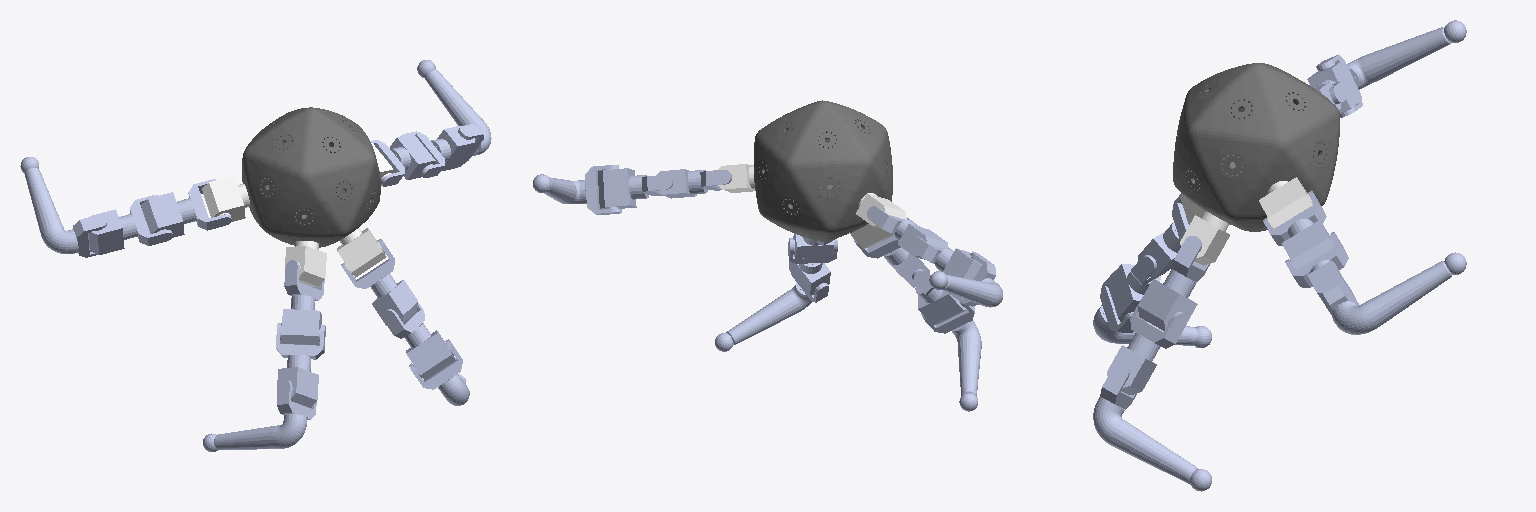
The robot description file, URDF, robot "mod_test":
<?xml version="1.0" encoding="utf-8"?>
<robot
  name="mod_test">
  <link
    name="base_link">
    <inertial>
      <origin
        xyz="-1.5226495220944E-06 1.5812928362389E-07 -5.05247252856584E-07"
        rpy="0 0 0" />
      <mass
        value="0.422806992949252" />
      <inertia
        ixx="0.00237499139253511"
        ixy="1.5717831530364E-08"
        ixz="1.49286265366169E-08"
        iyy="0.00237502154661776"
        iyz="-2.02154172619351E-08"
        izz="0.00237502595466009" />
    </inertial>
    <visual>
      <origin
        xyz="0 0 0"
        rpy="0 0 0" />
      <geometry>
        <mesh
          filename="package://meshes/base_link.STL" />
      </geometry>
      <material
        name="">
        <color
          rgba="0.498039215686275 0.498039215686275 0.498039215686275 1" />
      </material>
    </visual>
    <collision>
      <origin
        xyz="0 0 0"
        rpy="0 0 0" />
      <geometry>
        <mesh
          filename="package://meshes/base_link.STL" />
      </geometry>
    </collision>
  </link>
  <link
   name="150">
   <inertial>
      <origin
        xyz="0 0 0.028508"
        rpy="0 0 0" />
      <mass
        value="0.076173" />
      <inertia
        ixx="3.054E-05"
        ixy="0.000000"
        ixz="-0.000000"
        iyy="2.1077E-05"
        iyz="-0.000000"
        izz="2.1165E-05" />
    </inertial>
    <visual>
      <origin
        xyz="0 0 0"
        rpy="0 0 0" />
      <geometry>
        <mesh
          filename="package://meshes/1.STL" />
      </geometry>
      <material
        name="">
        <color
          rgba="1 1 1 1" />
      </material>
    </visual>
    <collision>
      <origin
        xyz="0 0 0"
        rpy="0 0 0" />
      <geometry>
        <mesh
          filename="package://meshes/1.STL" />
      </geometry>
    </collision>
  </link>
  <joint
    name="body_150"
    type="fixed">
    <origin
        xyz="0.031905 -0.043913 -0.071046"
        rpy="-2.557073 -0.308415 -2.083145" />
    <parent
      link="base_link" />
    <child
      link="150" />
    <axis
      xyz="0 0 0" />
  </joint>
  <link
    name="151">
    <inertial>
      <origin
        xyz="0.060018 -1.4108E-06 1.4108E-06"
        rpy="0 0 0" />
    <mass
        value="0.10689" />
      <inertia
        ixx="3.2684e-05"
        ixy="-2.5662e-09"
        ixz="2.5662e-09"
        iyy="8.6498e-05"
        iyz="-4.0975e-06"
        izz="8.2217e-05" />
    </inertial>
    <visual>
      <origin
        xyz="0 0 0"
        rpy="0 0 0" />
      <geometry>
        <mesh
          filename="package://meshes/module10.STL" />
      </geometry>
      <material
        name="">
        <color
          rgba="0.79216 0.81961 0.93333 1" />
      </material>
    </visual>
    <collision>
      <origin
        xyz="0 0 0"
        rpy="0 0 0" />
      <geometry>
        <mesh
          filename="package://meshes/module10.STL" />
      </geometry>
    </collision>
  </link>
  <joint
    name="150_151"
    type="revolute">
    <origin
      xyz="0 0 0.04"
      rpy="-1.558 -1.5708 -0.012835" />
    <parent
      link="150" />
    <child
      link="151" />
    <axis
      xyz="0 0 1" />
    <limit
      lower="-6.28"
      upper="6.28"
      effort="10"
      velocity="100" />
  </joint>
  <link
    name="152">
    <inertial>
      <origin
        xyz="0.060018 -1.4108E-06 1.4108E-06"
        rpy="0 0 0" />
    <mass
        value="0.10689" />
      <inertia
        ixx="3.2684e-05"
        ixy="-2.5662e-09"
        ixz="2.5662e-09"
        iyy="8.6498e-05"
        iyz="4.0975e-06"
        izz="8.2217e-05" />
    </inertial>
    <visual>
      <origin
        xyz="0 0 0"
        rpy="0 0 0" />
      <geometry>
        <mesh
          filename="package://meshes/module2.STL" />
      </geometry>
      <material
        name="">
        <color
          rgba="0.79216 0.81961 0.93333 1" />
      </material>
    </visual>
    <collision>
      <origin
        xyz="0 0 0"
        rpy="0 0 0" />
      <geometry>
        <mesh
          filename="package://meshes/module2.STL" />
      </geometry>
    </collision>
  </link>
  <joint
    name="151_152"
    type="revolute">
    <origin
      xyz="0.0816 0 0"
      rpy="5.235988 0 0" />
    <parent
      link="151" />
    <child
      link="152" />
    <axis
      xyz="0 0 1" />
    <limit
      lower="-6.28"
      upper="6.28"
      effort="10"
      velocity="100" />
  </joint>
  <link
    name="153">
    <inertial>
      <origin
        xyz="0.051733 -0.042281 -1.3878E-17"
        rpy="0 0 0" />
    <mass
        value="0.12059" />
      <inertia
        ixx="0.00025425"
        ixy="4.8319E-05"
        ixz="0"
        iyy="5.0194E-05"
        iyz="-3.3141E-21"
        izz="0.00027482" />
    </inertial>
    <visual>
      <origin
        xyz="0 0 0"
        rpy="0 0 0" />
      <geometry>
        <mesh
          filename="package://meshes/leg.STL" />
      </geometry>
      <material
        name="">
        <color
          rgba="0.79216 0.81961 0.93333 1" />
      </material>
    </visual>
    <collision>
      <origin
        xyz="0 0 0"
        rpy="0 0 0" />
      <geometry>
        <mesh
          filename="package://meshes/leg.STL" />
      </geometry>
    </collision>
  </link>
  <joint
    name="152_153"
    type="revolute">
    <origin
      xyz="0.0816 0 0"
      rpy="1.047198 0 0" />
    <parent
      link="152" />
    <child
      link="153" />
    <axis
      xyz="0 0 1" />
    <limit
      lower="-6.28"
      upper="6.28"
      effort="10"
      velocity="100" />
  </joint>
  <link
   name="110">
   <inertial>
      <origin
        xyz="0 0 0.028508"
        rpy="0 0 0" />
      <mass
        value="0.076173" />
      <inertia
        ixx="3.054E-05"
        ixy="0.000000"
        ixz="0.000000"
        iyy="2.1077E-05"
        iyz="0.000021"
        izz="2.1165E-05" />
    </inertial>
    <visual>
      <origin
        xyz="0 0 0"
        rpy="0 0 0" />
      <geometry>
        <mesh
          filename="package://meshes/1.STL" />
      </geometry>
      <material
        name="">
        <color
          rgba="1 1 1 1" />
      </material>
    </visual>
    <collision>
      <origin
        xyz="0 0 0"
        rpy="0 0 0" />
      <geometry>
        <mesh
          filename="package://meshes/1.STL" />
      </geometry>
    </collision>
  </link>
  <joint
    name="body_110"
    type="fixed">
    <origin
        xyz="0.083523 0.027138 -0.016769"
        rpy="-1.935587 -1.017234 -0.942540" />
    <parent
      link="base_link" />
    <child
      link="110" />
    <axis
      xyz="0 0 0" />
  </joint>
  <link
    name="111">
    <inertial>
      <origin
        xyz="0.060018 -1.4108E-06 1.4108E-06"
        rpy="0 0 0" />
    <mass
        value="0.10689" />
      <inertia
        ixx="3.2684e-05"
        ixy="-2.5662e-09"
        ixz="2.5662e-09"
        iyy="9.3595e-05"
        iyz="-2.1275e-13"
        izz="7.512e-05" />
    </inertial>
    <visual>
      <origin
        xyz="0 0 0"
        rpy="0 0 0" />
      <geometry>
        <mesh
          filename="package://meshes/module0.STL" />
      </geometry>
      <material
        name="">
        <color
          rgba="0.79216 0.81961 0.93333 1" />
      </material>
    </visual>
    <collision>
      <origin
        xyz="0 0 0"
        rpy="0 0 0" />
      <geometry>
        <mesh
          filename="package://meshes/module0.STL" />
      </geometry>
    </collision>
  </link>
  <joint
    name="110_111"
    type="revolute">
    <origin
      xyz="0 0 0.04"
      rpy="-1.558 -1.5708 -0.012835" />
    <parent
      link="110" />
    <child
      link="111" />
    <axis
      xyz="0 0 1" />
    <limit
      lower="-6.28"
      upper="6.28"
      effort="10"
      velocity="100" />
  </joint>
  <link
    name="112">
    <inertial>
      <origin
        xyz="0.060018 -1.4108E-06 1.4108E-06"
        rpy="0 0 0" />
    <mass
        value="0.10689" />
      <inertia
        ixx="3.2684e-05"
        ixy="-2.5662e-09"
        ixz="2.5662e-09"
        iyy="8.4132e-05"
        iyz="-2.1275e-13"
        izz="8.4583e-05" />
    </inertial>
    <visual>
      <origin
        xyz="0 0 0"
        rpy="0 0 0" />
      <geometry>
        <mesh
          filename="package://meshes/module3.STL" />
      </geometry>
      <material
        name="">
        <color
          rgba="0.79216 0.81961 0.93333 1" />
      </material>
    </visual>
    <collision>
      <origin
        xyz="0 0 0"
        rpy="0 0 0" />
      <geometry>
        <mesh
          filename="package://meshes/module3.STL" />
      </geometry>
    </collision>
  </link>
  <joint
    name="111_112"
    type="revolute">
    <origin
      xyz="0.0816 0 0"
      rpy="0.000000 0 0" />
    <parent
      link="111" />
    <child
      link="112" />
    <axis
      xyz="0 0 1" />
    <limit
      lower="-6.28"
      upper="6.28"
      effort="10"
      velocity="100" />
  </joint>
  <link
    name="113">
    <inertial>
      <origin
        xyz="0.051733 -0.042281 -1.3878E-17"
        rpy="0 0 0" />
    <mass
        value="0.12059" />
      <inertia
        ixx="0.00025425"
        ixy="4.8319E-05"
        ixz="0"
        iyy="5.0194E-05"
        iyz="-3.3141E-21"
        izz="0.00027482" />
    </inertial>
    <visual>
      <origin
        xyz="0 0 0"
        rpy="0 0 0" />
      <geometry>
        <mesh
          filename="package://meshes/leg.STL" />
      </geometry>
      <material
        name="">
        <color
          rgba="0.79216 0.81961 0.93333 1" />
      </material>
    </visual>
    <collision>
      <origin
        xyz="0 0 0"
        rpy="0 0 0" />
      <geometry>
        <mesh
          filename="package://meshes/leg.STL" />
      </geometry>
    </collision>
  </link>
  <joint
    name="112_113"
    type="revolute">
    <origin
      xyz="0.0816 0 0"
      rpy="1.570796 0 0" />
    <parent
      link="112" />
    <child
      link="113" />
    <axis
      xyz="0 0 1" />
    <limit
      lower="-6.28"
      upper="6.28"
      effort="10"
      velocity="100" />
  </joint>
  <link
   name="130">
   <inertial>
      <origin
        xyz="0 0 0.028508"
        rpy="0 0 0" />
      <mass
        value="0.076173" />
      <inertia
        ixx="3.054E-05"
        ixy="0.000000"
        ixz="-0.000000"
        iyy="2.1077E-05"
        iyz="-0.000000"
        izz="2.1165E-05" />
    </inertial>
    <visual>
      <origin
        xyz="0 0 0"
        rpy="0 0 0" />
      <geometry>
        <mesh
          filename="package://meshes/1.STL" />
      </geometry>
      <material
        name="">
        <color
          rgba="1 1 1 1" />
      </material>
    </visual>
    <collision>
      <origin
        xyz="0 0 0"
        rpy="0 0 0" />
      <geometry>
        <mesh
          filename="package://meshes/1.STL" />
      </geometry>
    </collision>
  </link>
  <joint
    name="body_130"
    type="fixed">
    <origin
        xyz="-0.083523 0.027138 -0.016769"
        rpy="1.935587 -1.017234 -2.199053" />
    <parent
      link="base_link" />
    <child
      link="130" />
    <axis
      xyz="0 0 0" />
  </joint>
  <link
    name="131">
    <inertial>
      <origin
        xyz="0.060018 -1.4108E-06 1.4108E-06"
        rpy="0 0 0" />
    <mass
        value="0.10689" />
      <inertia
        ixx="3.2684e-05"
        ixy="-2.5662e-09"
        ixz="2.5662e-09"
        iyy="9.3595e-05"
        iyz="-2.1275e-13"
        izz="7.512e-05" />
    </inertial>
    <visual>
      <origin
        xyz="0 0 0"
        rpy="0 0 0" />
      <geometry>
        <mesh
          filename="package://meshes/module0.STL" />
      </geometry>
      <material
        name="">
        <color
          rgba="0.79216 0.81961 0.93333 1" />
      </material>
    </visual>
    <collision>
      <origin
        xyz="0 0 0"
        rpy="0 0 0" />
      <geometry>
        <mesh
          filename="package://meshes/module0.STL" />
      </geometry>
    </collision>
  </link>
  <joint
    name="130_131"
    type="revolute">
    <origin
      xyz="0 0 0.04"
      rpy="-1.558 -1.5708 -0.012835" />
    <parent
      link="130" />
    <child
      link="131" />
    <axis
      xyz="0 0 1" />
    <limit
      lower="-6.28"
      upper="6.28"
      effort="10"
      velocity="100" />
  </joint>
  <link
    name="132">
    <inertial>
      <origin
        xyz="0.060018 -1.4108E-06 1.4108E-06"
        rpy="0 0 0" />
    <mass
        value="0.10689" />
      <inertia
        ixx="3.2684e-05"
        ixy="-2.5662e-09"
        ixz="2.5662e-09"
        iyy="8.4132e-05"
        iyz="-2.1275e-13"
        izz="8.4583e-05" />
    </inertial>
    <visual>
      <origin
        xyz="0 0 0"
        rpy="0 0 0" />
      <geometry>
        <mesh
          filename="package://meshes/module9.STL" />
      </geometry>
      <material
        name="">
        <color
          rgba="0.79216 0.81961 0.93333 1" />
      </material>
    </visual>
    <collision>
      <origin
        xyz="0 0 0"
        rpy="0 0 0" />
      <geometry>
        <mesh
          filename="package://meshes/module9.STL" />
      </geometry>
    </collision>
  </link>
  <joint
    name="131_132"
    type="revolute">
    <origin
      xyz="0.0816 0 0"
      rpy="0.000000 0 0" />
    <parent
      link="131" />
    <child
      link="132" />
    <axis
      xyz="0 0 1" />
    <limit
      lower="-6.28"
      upper="6.28"
      effort="10"
      velocity="100" />
  </joint>
  <link
    name="133">
    <inertial>
      <origin
        xyz="0.051733 -0.042281 -1.3878E-17"
        rpy="0 0 0" />
    <mass
        value="0.12059" />
      <inertia
        ixx="0.00025425"
        ixy="4.8319E-05"
        ixz="0"
        iyy="5.0194E-05"
        iyz="-3.3141E-21"
        izz="0.00027482" />
    </inertial>
    <visual>
      <origin
        xyz="0 0 0"
        rpy="0 0 0" />
      <geometry>
        <mesh
          filename="package://meshes/leg.STL" />
      </geometry>
      <material
        name="">
        <color
          rgba="0.79216 0.81961 0.93333 1" />
      </material>
    </visual>
    <collision>
      <origin
        xyz="0 0 0"
        rpy="0 0 0" />
      <geometry>
        <mesh
          filename="package://meshes/leg.STL" />
      </geometry>
    </collision>
  </link>
  <joint
    name="132_133"
    type="revolute">
    <origin
      xyz="0.0816 0 0"
      rpy="4.712389 0 0" />
    <parent
      link="132" />
    <child
      link="133" />
    <axis
      xyz="0 0 1" />
    <limit
      lower="-6.28"
      upper="6.28"
      effort="10"
      velocity="100" />
  </joint>
  <link
   name="190">
   <inertial>
      <origin
        xyz="0 0 0.028508"
        rpy="0 0 0" />
      <mass
        value="0.076173" />
      <inertia
        ixx="3.054E-05"
        ixy="0.000000"
        ixz="-0.000000"
        iyy="2.1077E-05"
        iyz="0.000021"
        izz="2.1165E-05" />
    </inertial>
    <visual>
      <origin
        xyz="0 0 0"
        rpy="0 0 0" />
      <geometry>
        <mesh
          filename="package://meshes/1.STL" />
      </geometry>
      <material
        name="">
        <color
          rgba="1 1 1 1" />
      </material>
    </visual>
    <collision>
      <origin
        xyz="0 0 0"
        rpy="0 0 0" />
      <geometry>
        <mesh
          filename="package://meshes/1.STL" />
      </geometry>
    </collision>
  </link>
  <joint
    name="body_190"
    type="fixed">
    <origin
        xyz="-0.031905 -0.043913 -0.071046"
        rpy="2.557073 -0.308415 -1.058448" />
    <parent
      link="base_link" />
    <child
      link="190" />
    <axis
      xyz="0 0 0" />
  </joint>
  <link
    name="191">
    <inertial>
      <origin
        xyz="0.060018 -1.4108E-06 1.4108E-06"
        rpy="0 0 0" />
    <mass
        value="0.10689" />
      <inertia
        ixx="3.2684e-05"
        ixy="-2.5662e-09"
        ixz="2.5662e-09"
        iyy="8.6498e-05"
        iyz="4.0975e-06"
        izz="8.2217e-05" />
    </inertial>
    <visual>
      <origin
        xyz="0 0 0"
        rpy="0 0 0" />
      <geometry>
        <mesh
          filename="package://meshes/module2.STL" />
      </geometry>
      <material
        name="">
        <color
          rgba="0.79216 0.81961 0.93333 1" />
      </material>
    </visual>
    <collision>
      <origin
        xyz="0 0 0"
        rpy="0 0 0" />
      <geometry>
        <mesh
          filename="package://meshes/module2.STL" />
      </geometry>
    </collision>
  </link>
  <joint
    name="190_191"
    type="revolute">
    <origin
      xyz="0 0 0.04"
      rpy="-1.558 -1.5708 -0.012835" />
    <parent
      link="190" />
    <child
      link="191" />
    <axis
      xyz="0 0 1" />
    <limit
      lower="-6.28"
      upper="6.28"
      effort="10"
      velocity="100" />
  </joint>
  <link
    name="192">
    <inertial>
      <origin
        xyz="0.060018 -1.4108E-06 1.4108E-06"
        rpy="0 0 0" />
    <mass
        value="0.10689" />
      <inertia
        ixx="3.2684e-05"
        ixy="-2.5662e-09"
        ixz="2.5662e-09"
        iyy="8.6498e-05"
        iyz="-4.0975e-06"
        izz="8.2217e-05" />
    </inertial>
    <visual>
      <origin
        xyz="0 0 0"
        rpy="0 0 0" />
      <geometry>
        <mesh
          filename="package://meshes/module10.STL" />
      </geometry>
      <material
        name="">
        <color
          rgba="0.79216 0.81961 0.93333 1" />
      </material>
    </visual>
    <collision>
      <origin
        xyz="0 0 0"
        rpy="0 0 0" />
      <geometry>
        <mesh
          filename="package://meshes/module10.STL" />
      </geometry>
    </collision>
  </link>
  <joint
    name="191_192"
    type="revolute">
    <origin
      xyz="0.0816 0 0"
      rpy="1.047198 0 0" />
    <parent
      link="191" />
    <child
      link="192" />
    <axis
      xyz="0 0 1" />
    <limit
      lower="-6.28"
      upper="6.28"
      effort="10"
      velocity="100" />
  </joint>
  <link
    name="193">
    <inertial>
      <origin
        xyz="0.051733 -0.042281 -1.3878E-17"
        rpy="0 0 0" />
    <mass
        value="0.12059" />
      <inertia
        ixx="0.00025425"
        ixy="4.8319E-05"
        ixz="0"
        iyy="5.0194E-05"
        iyz="-3.3141E-21"
        izz="0.00027482" />
    </inertial>
    <visual>
      <origin
        xyz="0 0 0"
        rpy="0 0 0" />
      <geometry>
        <mesh
          filename="package://meshes/leg.STL" />
      </geometry>
      <material
        name="">
        <color
          rgba="0.79216 0.81961 0.93333 1" />
      </material>
    </visual>
    <collision>
      <origin
        xyz="0 0 0"
        rpy="0 0 0" />
      <geometry>
        <mesh
          filename="package://meshes/leg.STL" />
      </geometry>
    </collision>
  </link>
  <joint
    name="192_193"
    type="revolute">
    <origin
      xyz="0.0816 0 0"
      rpy="5.235988 0 0" />
    <parent
      link="192" />
    <child
      link="193" />
    <axis
      xyz="0 0 1" />
    <limit
      lower="-6.28"
      upper="6.28"
      effort="10"
      velocity="100" />
  </joint>
  <link
    name = "ball_1">
    <inertial>
    <origin
        xyz="0 0 0"
        rpy="0 0 0" />
    <mass
        value="0" />
      <inertia
        ixx="0"
        ixy="0"
        ixz="0"
        iyy="0"
        iyz="0"
        izz="0" />
    </inertial>    <visual>
      <origin
        xyz="0 0 0"
        rpy="0 0 0" />
     <geometry>
        <sphere radius = "0.01"/>
      </geometry>
      <material
        name="green">
        <color
          rgba="0.22 1 0.4 1" />
      </material>
    </visual>
  </link>
  <joint
  name="153_ball1"
  type="fixed">
    <origin
      xyz="0.0612 -0.13431 0"
      rpy="0 0 0" />
    <parent
      link="153" />
    <child
      link="ball_1" />
    <axis
      xyz="0 0 0" />
  </joint>
  <link
    name = "ball_2">
    <inertial>
    <origin
        xyz="0 0 0"
        rpy="0 0 0" />
    <mass
        value="0" />
      <inertia
        ixx="0"
        ixy="0"
        ixz="0"
        iyy="0"
        iyz="0"
        izz="0" />
    </inertial>    <visual>
      <origin
        xyz="0 0 0"
        rpy="0 0 0" />
      <geometry>
        <sphere radius = "0.01"/>
      </geometry>
      <material
        name="blue">
        <color
          rgba="0.16 0.52 0.8 1" />
      </material>
    </visual>
  </link>
  <joint
  name="113_ball2"
  type="fixed">
    <origin
      xyz="0.0612 -0.13431 0"
      rpy="0 0 0" />
    <parent
      link="113" />
    <child
      link="ball_2" />
    <axis
      xyz="0 0 0" />
  </joint>
  <link
    name = "ball_3">
    <inertial>
    <origin
        xyz="0 0 0"
        rpy="0 0 0" />
    <mass
        value="0" />
      <inertia
        ixx="0"
        ixy="0"
        ixz="0"
        iyy="0"
        iyz="0"
        izz="0" />
    </inertial>    <visual>
      <origin
        xyz="0 0 0"
        rpy="0 0 0" />
     <geometry>
        <sphere radius = "0.01"/>
      </geometry>
      <material
        name="blue">
        <color
          rgba="0.16 0.52 0.8 1" />
      </material>
    </visual>
  </link>
  <joint
  name="133_ball3"
  type="fixed">
    <origin
      xyz="0.0612 -0.13431 0"
      rpy="0 0 0" />
    <parent
      link="133" />
    <child
      link="ball_3" />
    <axis
      xyz="0 0 0" />
  </joint>
  <link
    name = "ball_4">
    <inertial>
    <origin
        xyz="0 0 0"
        rpy="0 0 0" />
    <mass
        value="0" />
      <inertia
        ixx="0"
        ixy="0"
        ixz="0"
        iyy="0"
        iyz="0"
        izz="0" />
    </inertial>    <visual>
      <origin
        xyz="0 0 0"
        rpy="0 0 0" />
      <geometry>
        <sphere radius = "0.01"/>
      </geometry>
      <material
        name="yellow">
        <color
          rgba="1 1 0 1" />
      </material>
    </visual>
  </link>
  <joint
  name="193_ball4"
  type="fixed">
    <origin
      xyz="0.0612 -0.13431 0"
      rpy="0 0 0" />
    <parent
      link="193" />
    <child
      link="ball_4" />
    <axis
      xyz="0 0 0" />
  </joint>
</robot>

--- Render facts (derived) ---
The picture shows the robot from 3 angles, left to right: view 1: azimuth 30°, elevation 25°; view 2: azimuth 150°, elevation 25°; view 3: azimuth 270°, elevation 25°; orthographic projection.
Model mod_test with 21 links and 20 joints (12 revolute, 8 fixed), rooted at base_link, posed every joint at zero.
Links seen in each view (by area): view 1: base_link, 193, 133, 131, 191, 152, 113, 132, 192, 151, 111, 112 (+4 smaller); view 2: base_link, 153, 193, 112, 133, 113, 132, 192, 111, 131, 191, 152 (+4 smaller); view 3: base_link, 153, 113, 133, 151, 152, 111, 193, 192, 112, 110, 191 (+2 smaller).
Boxes of the visible links, <box> form: base_link: <box>242,107,380,247</box>; 193: <box>203,379,316,451</box>; 133: <box>20,157,106,257</box>; 131: <box>141,179,231,237</box>; 191: <box>280,260,324,345</box>; 152: <box>382,303,455,379</box>; 113: <box>417,60,491,166</box>; 132: <box>88,195,172,254</box>; 192: <box>276,323,325,407</box>; 151: <box>341,239,417,325</box>; 111: <box>370,134,436,186</box>; 112: <box>400,126,474,177</box>; base_link: <box>754,100,892,241</box>; 153: <box>715,269,828,351</box>; 193: <box>921,303,981,411</box>; 112: <box>598,168,672,209</box>; 133: <box>929,251,1002,307</box>; 113: <box>533,165,621,214</box>; 132: <box>907,235,981,279</box>; 192: <box>912,269,966,324</box>; 111: <box>657,169,731,198</box>; 131: <box>867,206,947,259</box>; 191: <box>853,235,929,287</box>; 152: <box>788,238,837,294</box>; base_link: <box>1173,63,1339,231</box>; 153: <box>1093,363,1211,491</box>; 113: <box>1316,252,1466,334</box>; 133: <box>1316,20,1466,117</box>; 151: <box>1138,236,1209,330</box>; 152: <box>1107,297,1187,394</box>; 111: <box>1263,190,1335,270</box>; 193: <box>1093,270,1211,347</box>; 192: <box>1107,255,1165,321</box>; 112: <box>1285,232,1358,314</box>; 110: <box>1259,177,1313,228</box>; 191: <box>1138,193,1188,277</box>.
Size in the robot's own frame: 0.6865 by 0.417 by 0.4368 metres.
Meshes: 8 distinct files referenced, 17 mesh visuals loaded (8 binary STL).